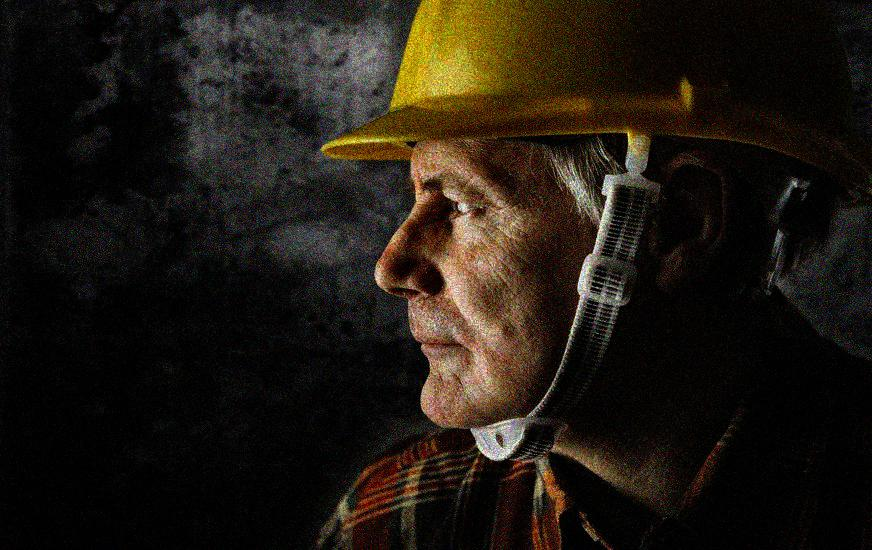helmet: (324, 1, 872, 430)
